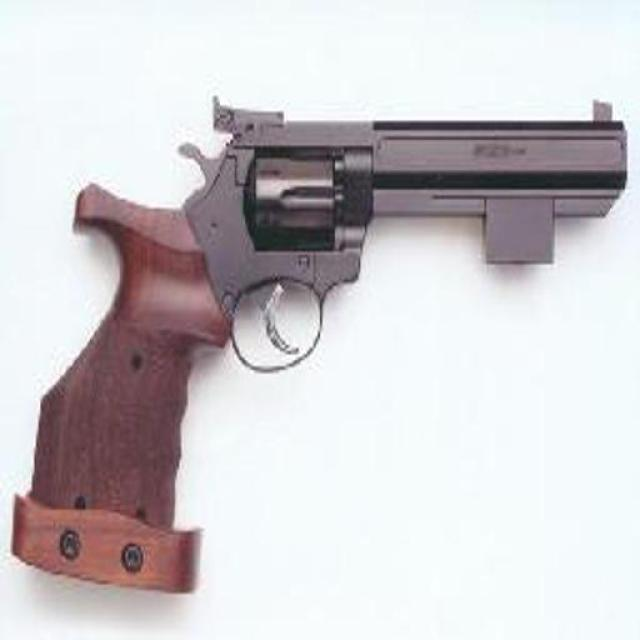pistol: (6, 90, 626, 584)
